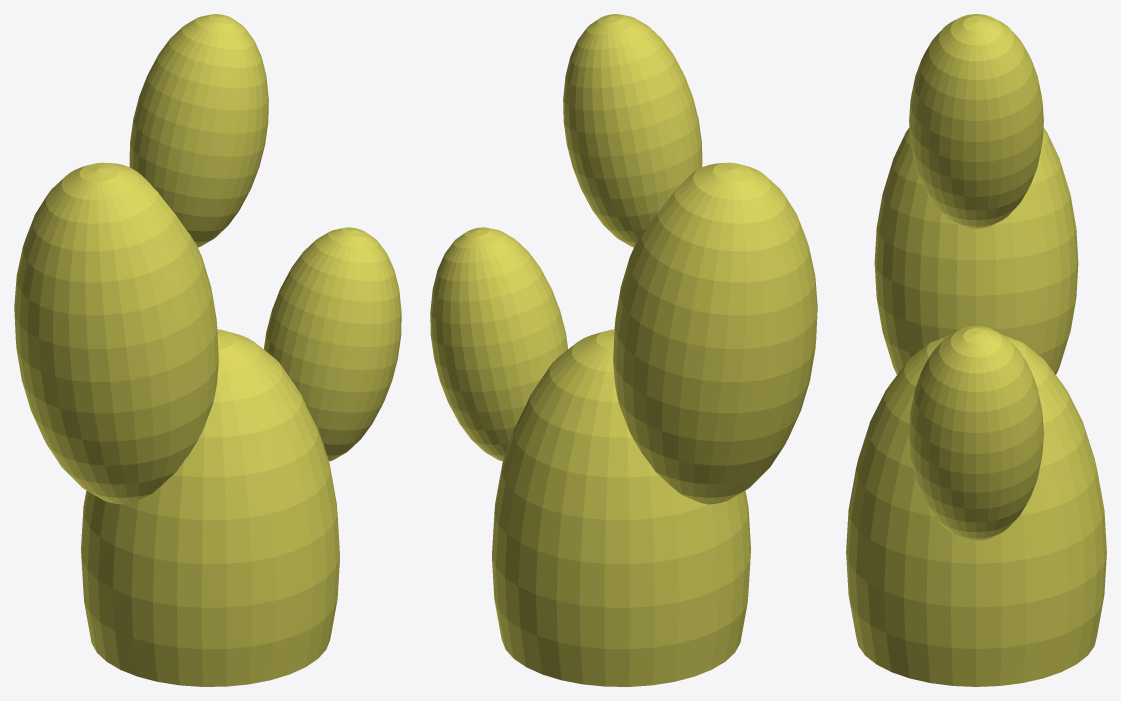
File: Cactus_Harvested.fbx
3 views of the same model, side by side, from view 1: azimuth 30°, elevation 25°; view 2: azimuth 150°, elevation 25°; view 3: azimuth 270°, elevation 25° (orthographic).
Visible parts, largest first — view 1: Cactus_Cut; view 2: Cactus_Cut; view 3: Cactus_Cut.
Part boxes in pixels (x1,y1,x2,y2): Cactus_Cut: (14, 14, 401, 686); Cactus_Cut: (430, 14, 817, 686); Cactus_Cut: (846, 14, 1106, 686).
Size of the model in its own units: 16.43 by 26.5 by 10.1.
